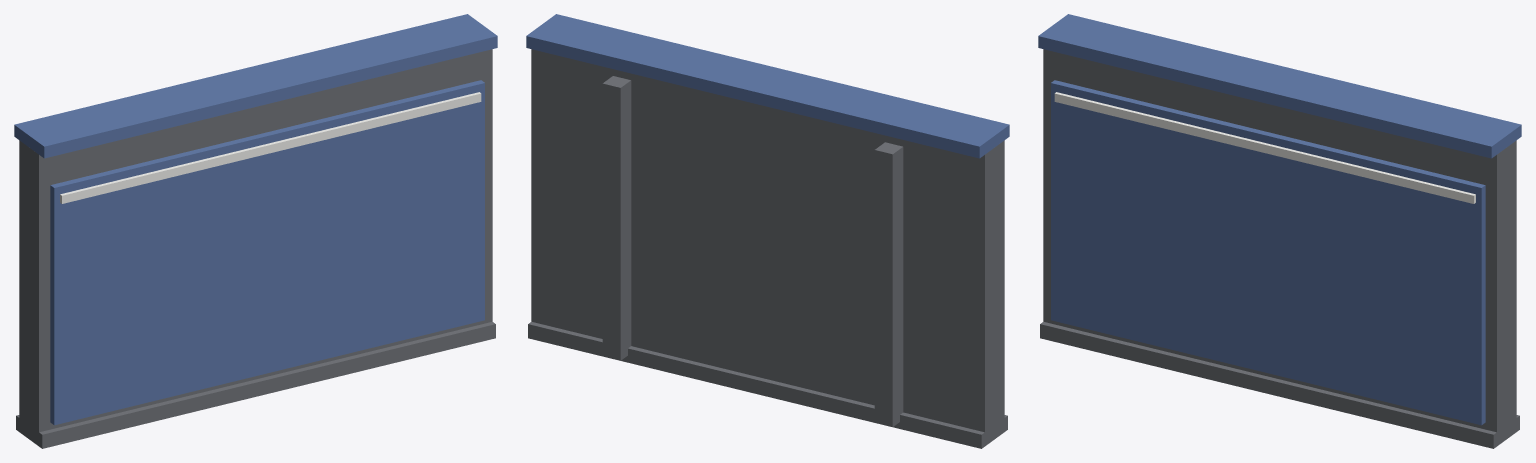
The model's file is baseball-park-and-batting-cages-outfield-wall-panel-cd7c77a6__33749.glb.
3 views of the same model, side by side, from view 1: azimuth 30°, elevation 25°; view 2: azimuth 150°, elevation 25°; view 3: azimuth 330°, elevation 25° (orthographic).
Visible parts, largest first — view 1: outfield-wall-panel; view 2: outfield-wall-panel; view 3: outfield-wall-panel.
Part boxes in pixels (<box>): outfield-wall-panel: <box>14,14,497,448</box>; outfield-wall-panel: <box>526,14,1009,448</box>; outfield-wall-panel: <box>1038,14,1521,448</box>.
Bounding box in the file's own units: 4 × 2.56 × 0.5498.
